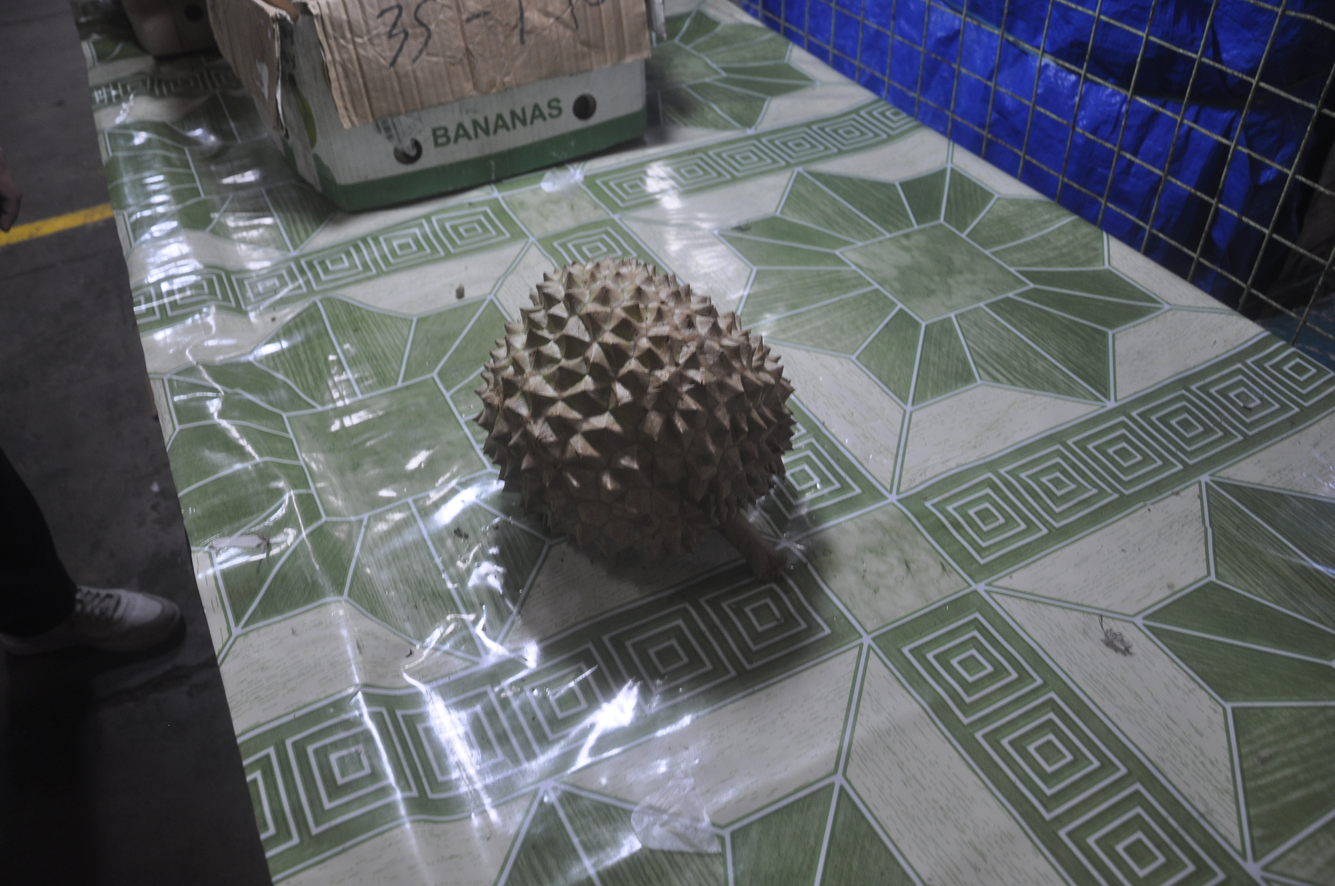mature: (475, 257, 797, 580)
